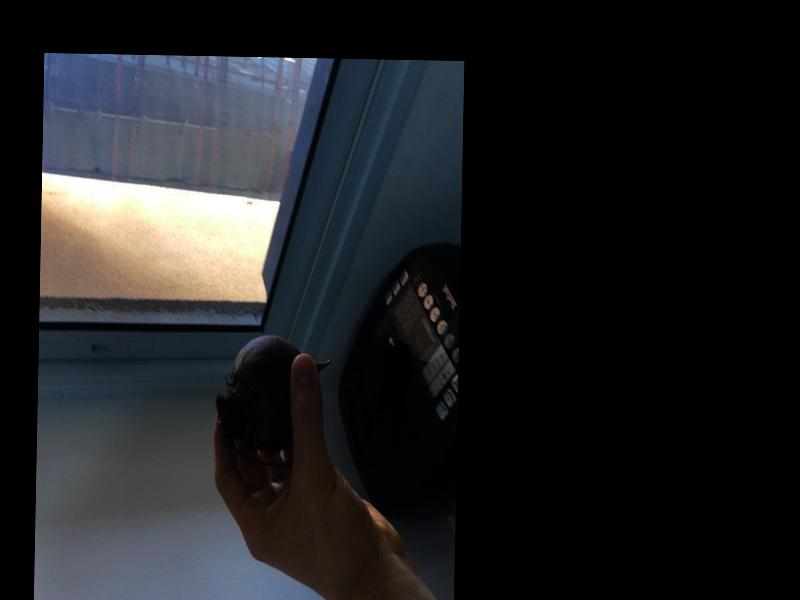Beet: (214, 334, 330, 465)
